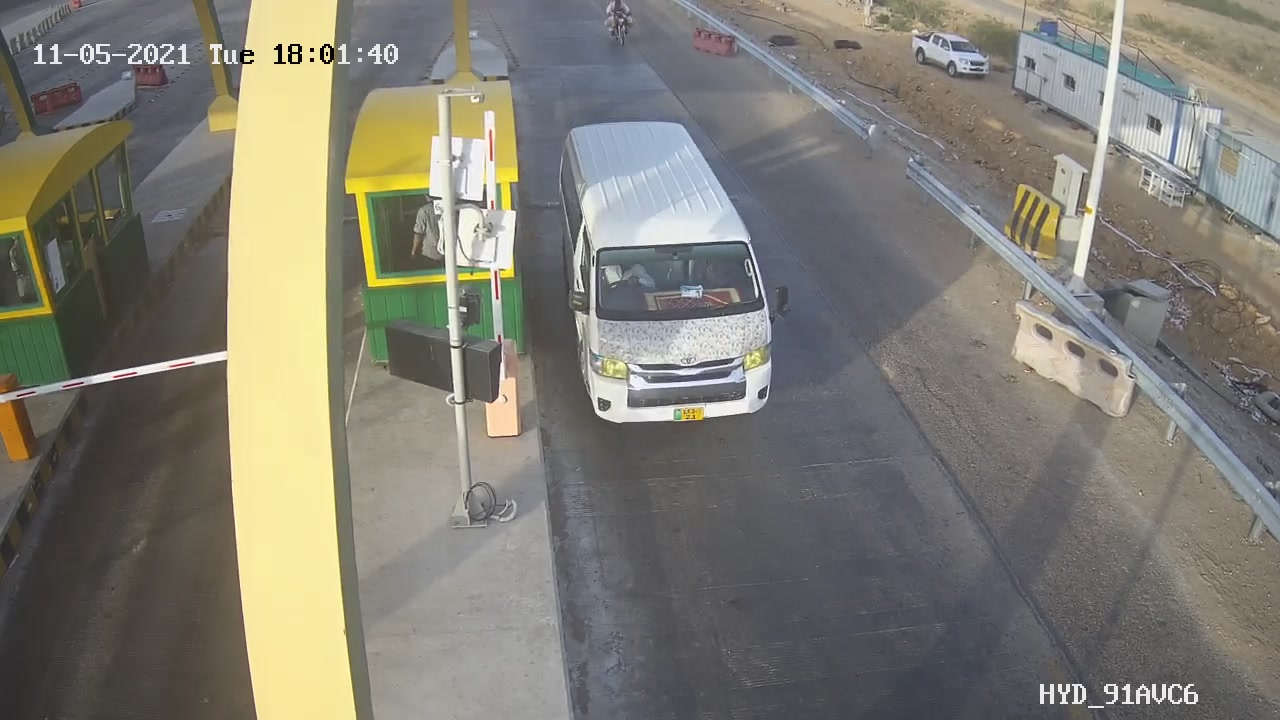F2: (553, 116, 804, 429)
